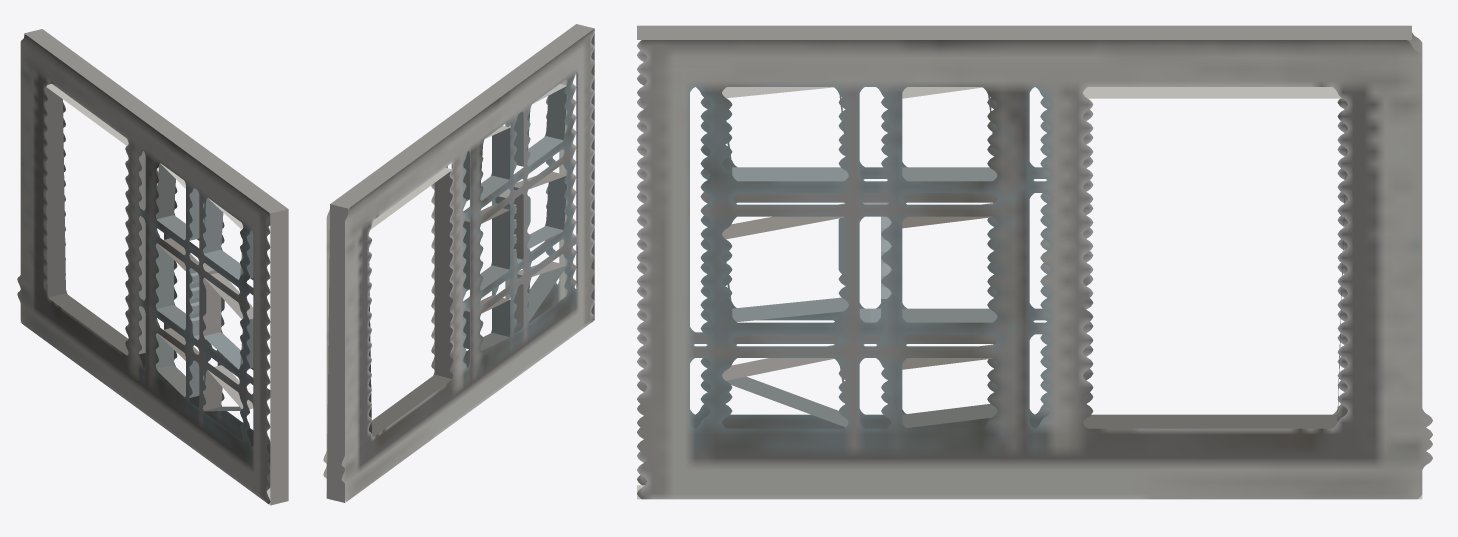
File: pz_native_fixtures_windows_01_10_frame.obj
The picture shows the model from 3 angles, left to right: view 1: azimuth 30°, elevation 25°; view 2: azimuth 150°, elevation 25°; view 3: azimuth 270°, elevation 25°; orthographic projection. The views are drawn at different scales.
Visible parts, largest first — view 1: pz_native_fixtures_windows_01_10_frame; view 2: pz_native_fixtures_windows_01_10_frame; view 3: pz_native_fixtures_windows_01_10_frame.
Part boxes in pixels (x1=…): pz_native_fixtures_windows_01_10_frame: x1=17, y1=29, x2=288, y2=505; pz_native_fixtures_windows_01_10_frame: x1=323, y1=24, x2=594, y2=502; pz_native_fixtures_windows_01_10_frame: x1=637, y1=25, x2=1432, y2=499.
Bounding box in the file's own units: 0.04 × 0.6562 × 0.9823.
1 material, 1 textured.
